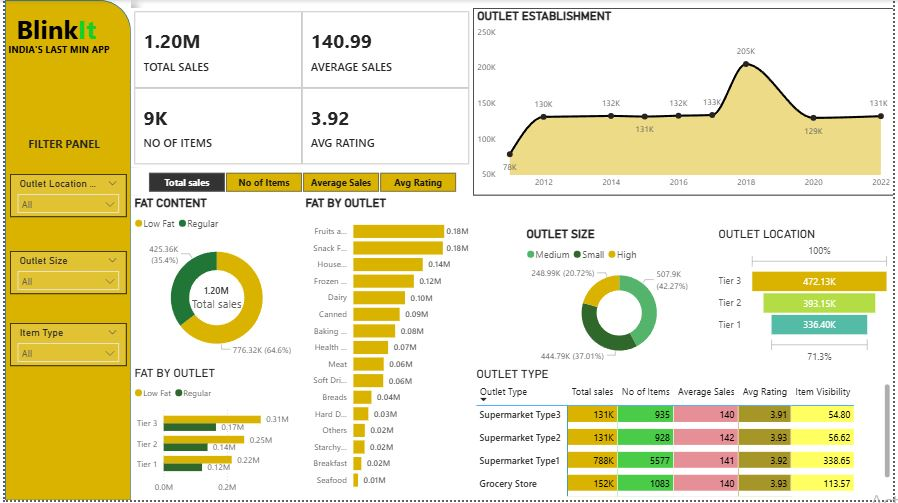

This screenshot's page, from the dashboard's own definition file:
{"tool":"powerbi","page":{"name":"Page 1","canvas":[1280,720],"ordinal":0},"visuals":[{"type":"shape","box":[0,0,181.4,720.6],"z":0},{"type":"textbox","box":[11.8,11.8,156.2,67.2],"z":1000},{"type":"textbox","box":[0,57.1,168,43.7],"z":2000},{"type":"cardVisual","fields":{"Data":["BlinkIT Grocery Data.Total sales","BlinkIT Grocery Data.Average Sales","BlinkIT Grocery Data.No of Items","BlinkIT Grocery Data.Avg Rating"]},"box":[181.4,11.8,492.2,230.1],"z":3000},{"type":"lineChart","title":"OUTLET ESTABLISHMENT","fields":{"Category":["BlinkIT Grocery Data.Outlet Establishment Year"],"Y":["BlinkIT Grocery Data.Total sales"]},"box":[673.6,11.8,606.4,270.4],"z":4000},{"type":"donutChart","title":"OUTLET SIZE","fields":{"Category":["BlinkIT Grocery Data.Outlet Size"],"Y":["BlinkIT Grocery Data.Total sales"]},"box":[745.8,327.6,277.2,199.9],"z":5000},{"type":"funnel","title":"OUTLET LOCATION","fields":{"Category":["BlinkIT Grocery Data.Outlet Location Type"],"Y":["BlinkIT Grocery Data.Total sales"]},"box":[1023,327.6,257,199.9],"z":6000},{"type":"slicer","fields":{"Values":["METRICS.METRICS"]},"box":[181.4,241.9,492.2,40.3],"z":7000},{"type":"donutChart","title":"FAT CONTENT","fields":{"Y":["BlinkIT Grocery Data.Total sales"],"Category":["BlinkIT Grocery Data.Item Fat Content"]},"box":[181.4,282.2,246.9,245.2],"z":8000},{"type":"clusteredBarChart","title":"FAT BY OUTLET","fields":{"Category":["BlinkIT Grocery Data.Outlet Location Type"],"Y":["Sum(BlinkIT Grocery Data.Sales)"],"Series":["BlinkIT Grocery Data.Item Fat Content"]},"box":[181.4,527.5,246.9,193.2],"z":9000},{"type":"barChart","title":"FAT BY OUTLET","fields":{"Y":["BlinkIT Grocery Data.Total sales"],"Category":["BlinkIT Grocery Data.Item Type"]},"box":[428.3,282.2,245.2,433.4],"z":10000},{"type":"pivotTable","title":"OUTLET TYPE","fields":{"Rows":["BlinkIT Grocery Data.Outlet Type"],"Values":["BlinkIT Grocery Data.Total sales","BlinkIT Grocery Data.No of Items","BlinkIT Grocery Data.Average Sales","BlinkIT Grocery Data.Avg Rating","Sum(BlinkIT Grocery Data.Item Visibility)"]},"box":[673.6,529.1,606.4,191.5],"z":11000},{"type":"cardVisual","fields":{"Data":["BlinkIT Grocery Data.Total sales"]},"box":[246.9,383,117.6,92.4],"z":12000},{"type":"slicer","fields":{"Values":["BlinkIT Grocery Data.Outlet Location Type"]},"box":[6.7,250.3,168,62.2],"z":13000},{"type":"slicer","fields":{"Values":["BlinkIT Grocery Data.Outlet Size"]},"box":[6.7,361.2,168,62.2],"z":14000},{"type":"slicer","fields":{"Values":["BlinkIT Grocery Data.Item Type"]},"box":[6.7,465.3,168,62.2],"z":15000},{"type":"textbox","box":[28.6,191.5,122.6,35.3],"z":16000}]}

Visuals, with their boxes in screenshot pixels (x1, y1, x2, y2), scaled from the page's 1280x720 canvas onto the 898x503 screenshot:
shape: 0,0,127,502
textbox: 8,8,118,55
textbox: 0,40,118,70
cardVisual - BlinkIT Grocery Data.Total sales x BlinkIT Grocery Data.Average Sales: 127,8,473,169
"OUTLET ESTABLISHMENT" lineChart: 473,8,897,197
"OUTLET SIZE" donutChart: 523,229,718,369
"OUTLET LOCATION" funnel: 718,229,897,369
slicer - METRICS.METRICS: 127,169,473,197
"FAT CONTENT" donutChart: 127,197,300,368
"FAT BY OUTLET" clusteredBarChart: 127,369,300,502
"FAT BY OUTLET" barChart: 300,197,473,500
"OUTLET TYPE" pivotTable: 473,370,897,502
cardVisual - BlinkIT Grocery Data.Total sales: 173,268,256,332
slicer - BlinkIT Grocery Data.Outlet Location Type: 5,175,123,218
slicer - BlinkIT Grocery Data.Outlet Size: 5,252,123,296
slicer - BlinkIT Grocery Data.Item Type: 5,325,123,369
textbox: 20,134,106,158
